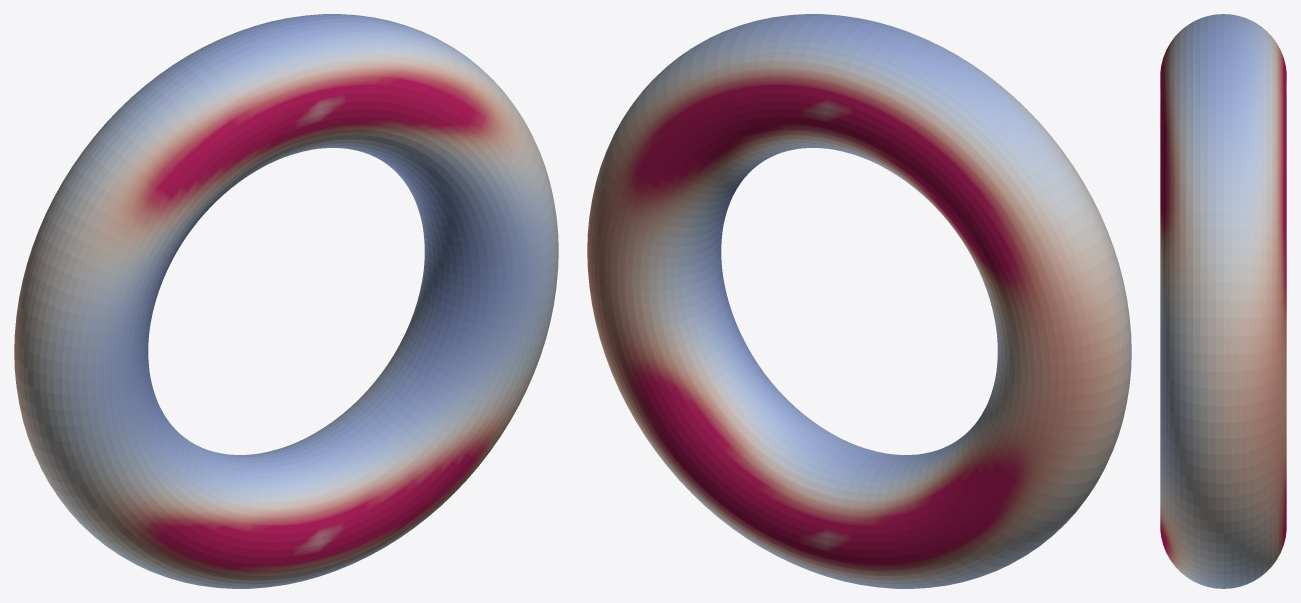
The picture shows the model from 3 angles, left to right: view 1: azimuth 30°, elevation 25°; view 2: azimuth 150°, elevation 25°; view 3: azimuth 270°, elevation 25°; orthographic projection. The views are drawn at different scales.
Visible parts, largest first — view 1: world; view 2: world; view 3: world.
Part boxes in pixels (<box>): world: <box>14,14,558,588</box>; world: <box>587,14,1131,588</box>; world: <box>1160,14,1286,588</box>.
Bounding box in the file's own units: 24.8 × 24.8 × 5.46.
